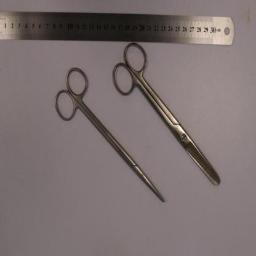Dressing Scissors: (112, 41, 220, 185)
